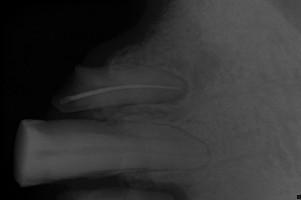Dental Caries: (119, 174, 191, 200)
Furcation Involvement: (158, 70, 191, 105)
